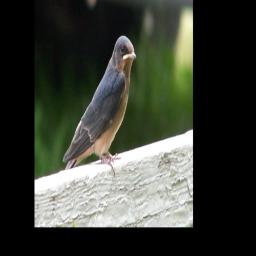Swallow: (62, 35, 137, 178)
